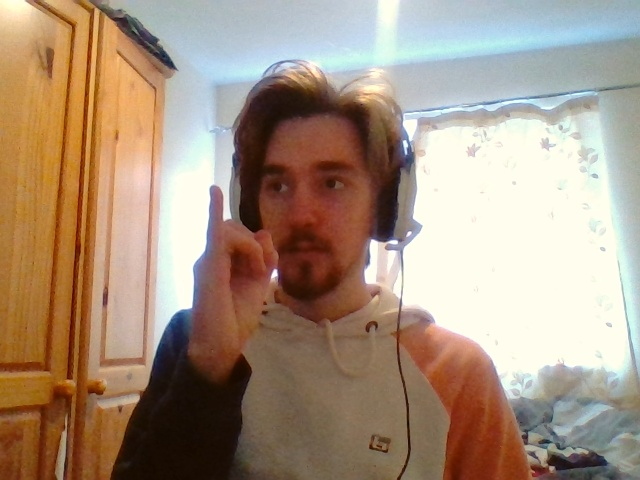bad: (193, 186, 280, 346)
